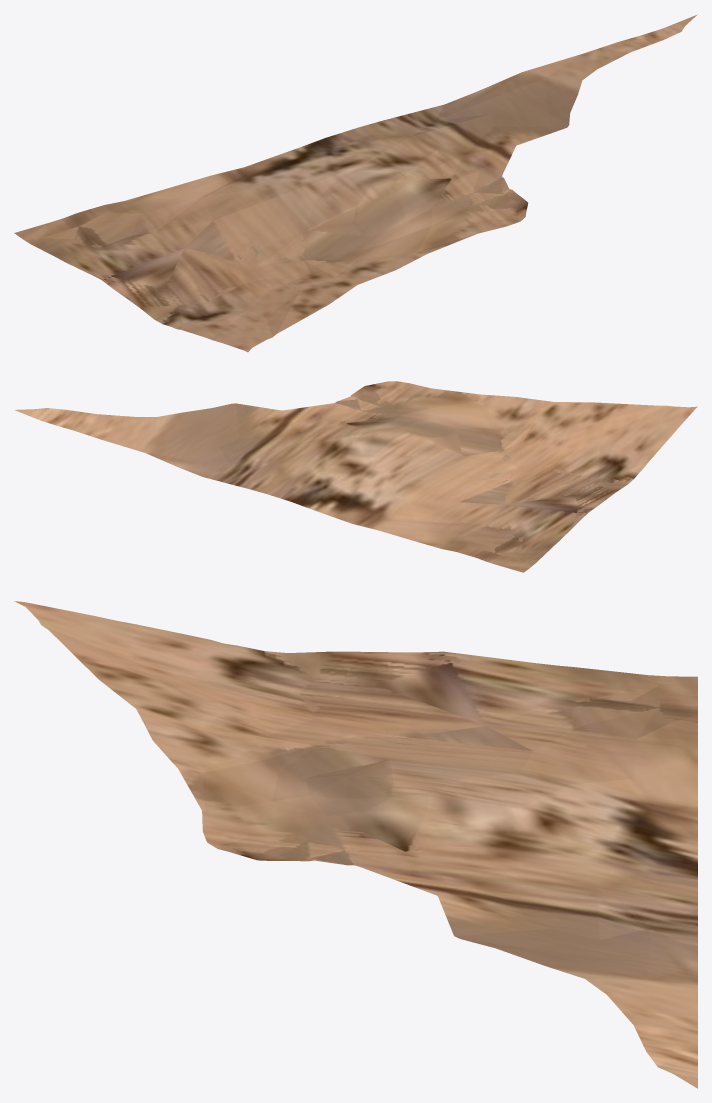
The picture shows the model from 3 angles, top to bottom: view 1: azimuth 30°, elevation 25°; view 2: azimuth 150°, elevation 25°; view 3: azimuth 270°, elevation 25°; orthographic projection. The views are drawn at different scales.
Bounding box in the file's own units: 0.8534 × 0.0617 × 0.5057.
1 material, 1 textured.
